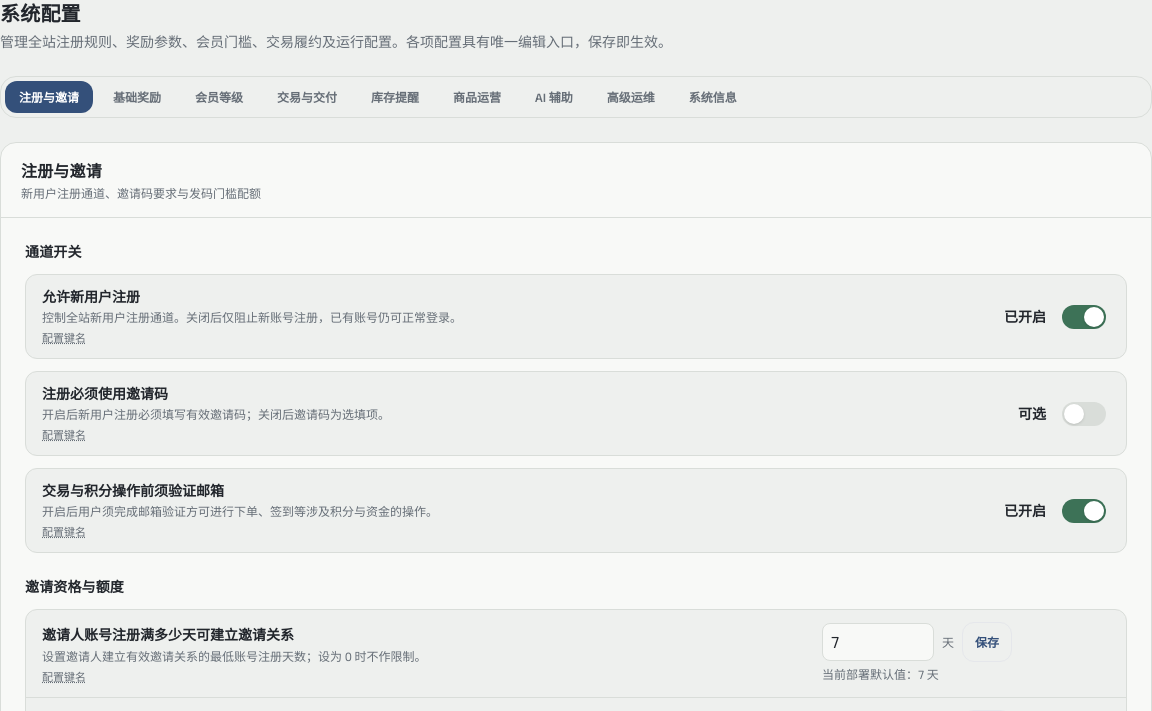
AdminConfigPanel & B2 Specifications › handles save failures without fake success, retaining draft and displaying error
Click the tab "基础奖励". click: (137, 97)
box: top-left (99, 81), bottom-right (175, 113)
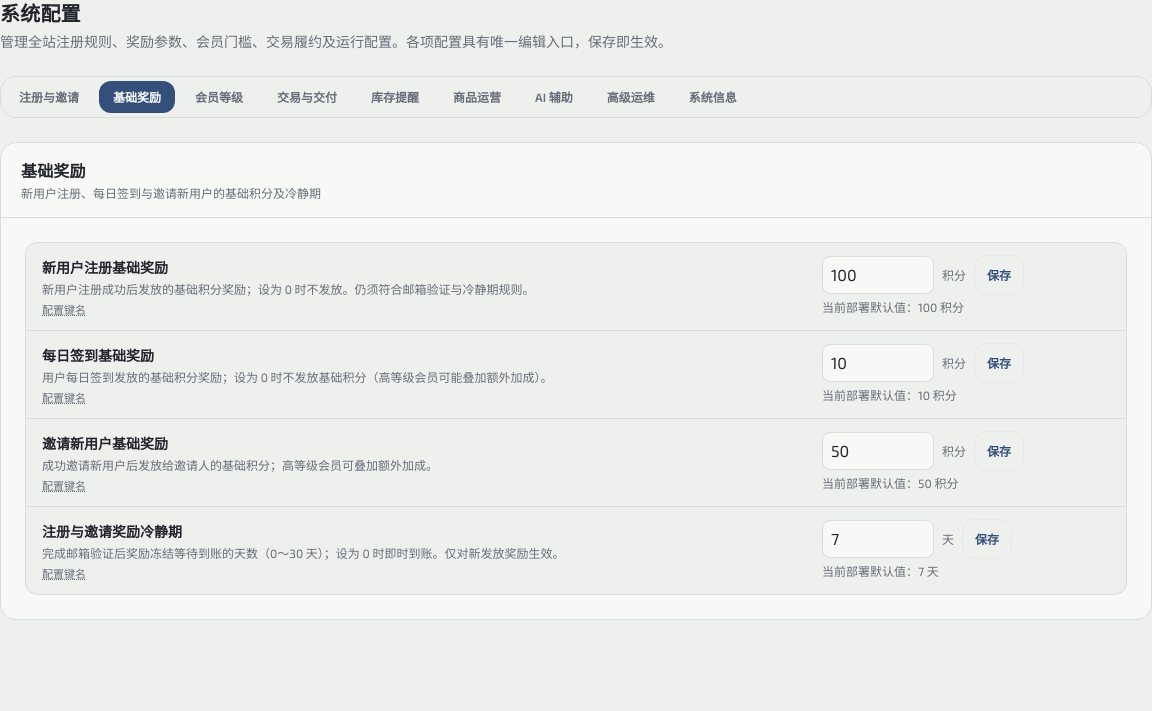
Replace the text in the number field with test id "admin-config-input-checkinReward" with "30". click: (878, 363)
box: top-left (822, 344), bottom-right (934, 382)
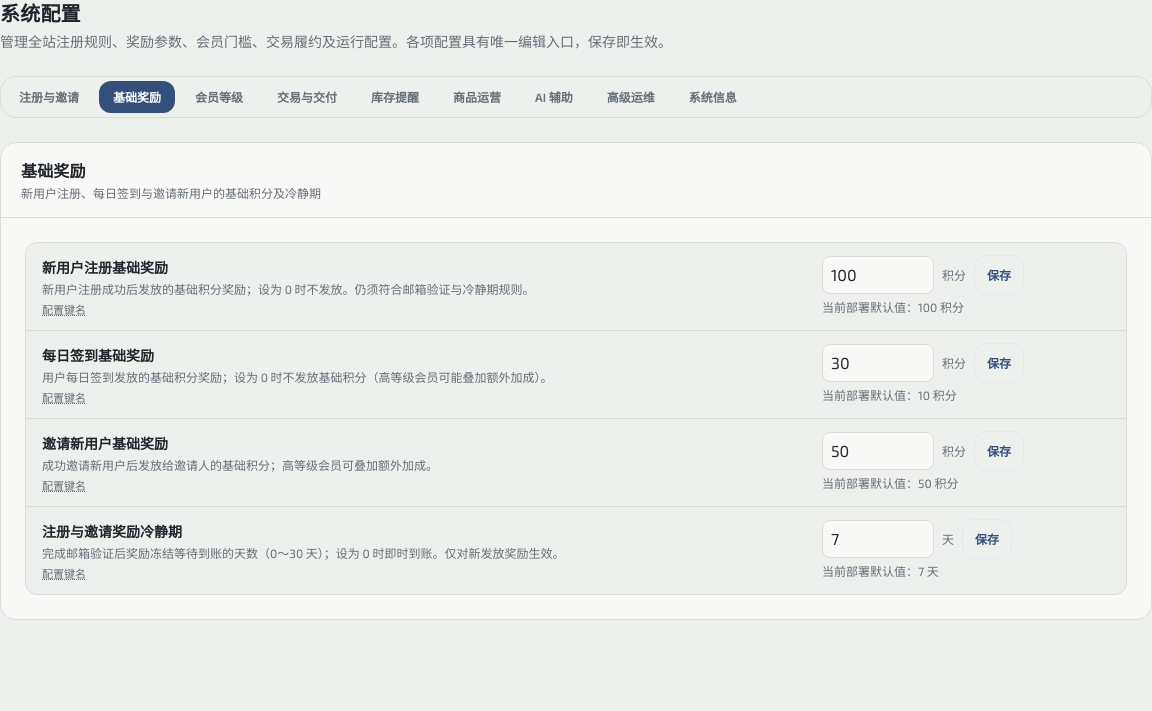
Click the button with test id "admin-config-save-checkinReward". click: (999, 363)
box: top-left (974, 343), bottom-right (1024, 383)
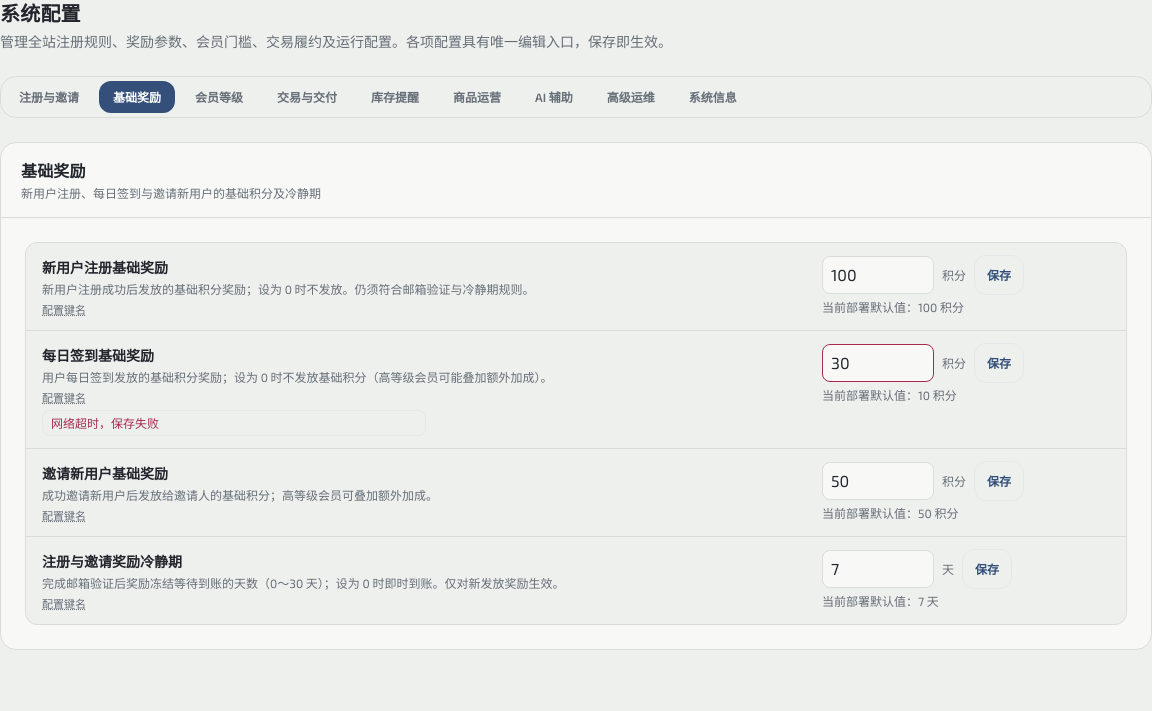
Expected: the text "网络超时，保存失败" is shown, top-left (42, 410), bottom-right (426, 436)
